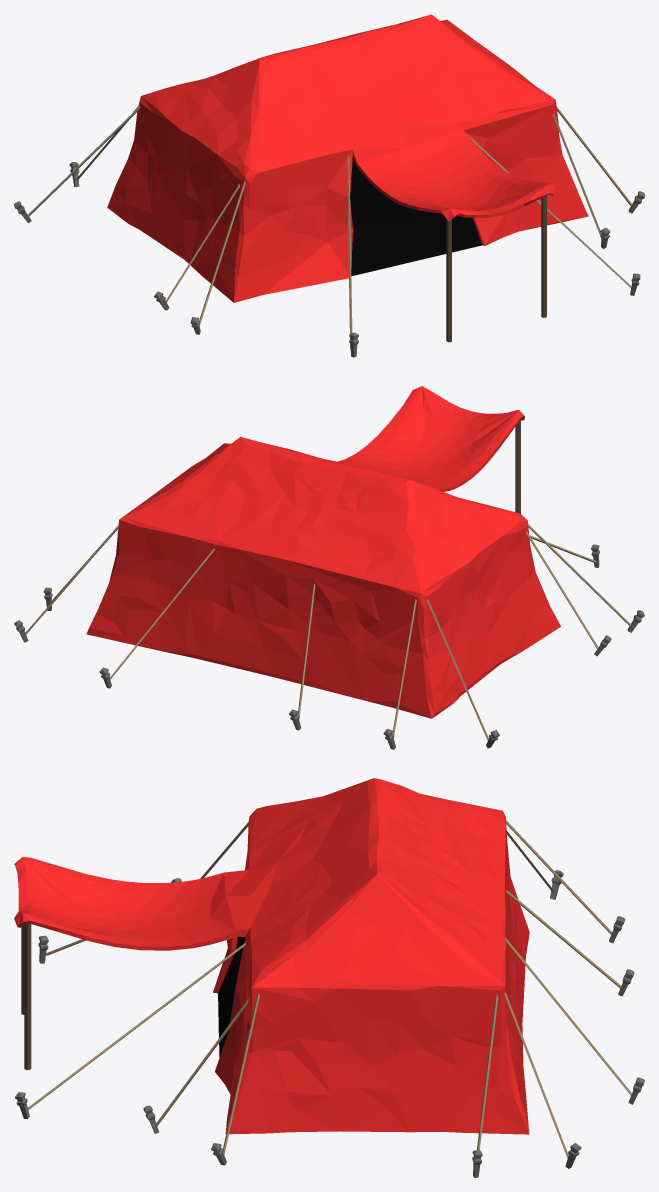
File: tent_b_02.FBX
3 renders of one model, top to bottom at view 1: azimuth 30°, elevation 25°; view 2: azimuth 150°, elevation 25°; view 3: azimuth 270°, elevation 25°, orthographic. The views are drawn at different scales.
Visible parts, largest first — view 1: tent_b_02; view 2: tent_b_02; view 3: tent_b_02.
Boxes of the visible parts, bbox=[...] form: tent_b_02: bbox=[14, 14, 644, 357]; tent_b_02: bbox=[14, 386, 644, 749]; tent_b_02: bbox=[14, 778, 644, 1177].
Size of the model in its own units: 11.32 by 4 by 10.57.
